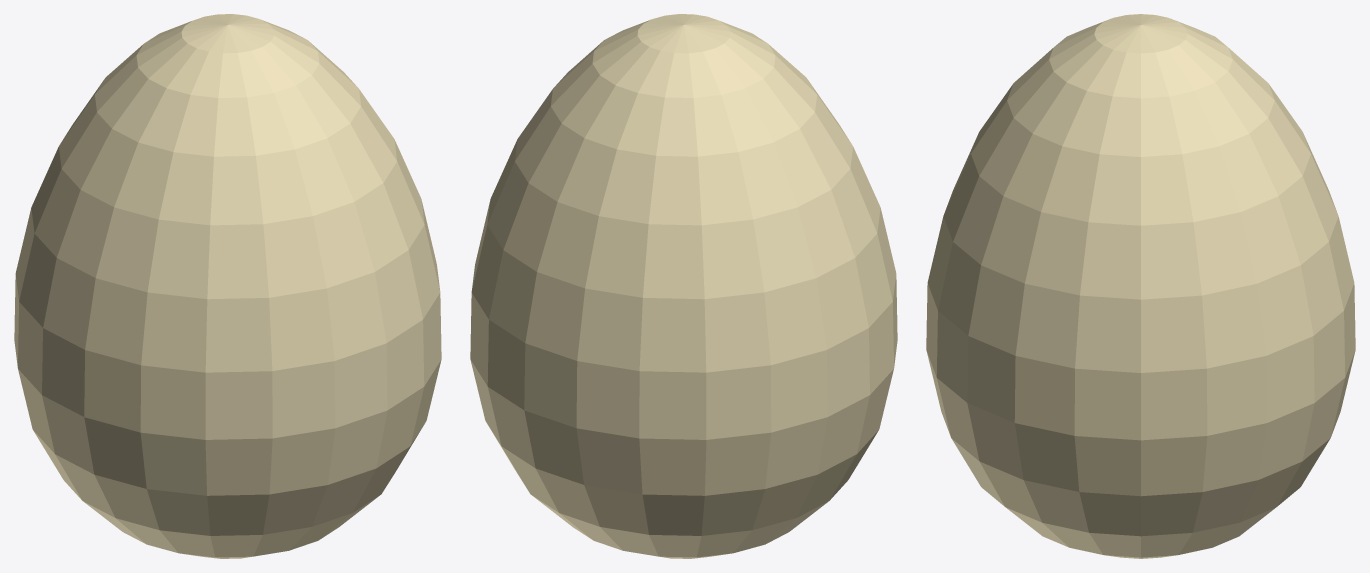
File: SM_Egg_Raw_A.fbx
The picture shows the model from 3 angles, left to right: view 1: azimuth 30°, elevation 25°; view 2: azimuth 150°, elevation 25°; view 3: azimuth 270°, elevation 25°; orthographic projection.
Visible parts, largest first — view 1: SM_Egg_Raw_A; view 2: SM_Egg_Raw_A; view 3: SM_Egg_Raw_A.
Boxes of the visible parts, x1,y1,x2,y2 form: SM_Egg_Raw_A: (14,14,441,558); SM_Egg_Raw_A: (470,14,897,558); SM_Egg_Raw_A: (926,14,1355,558).
Size of the model in its own units: 30.18 by 30.18 by 40.
